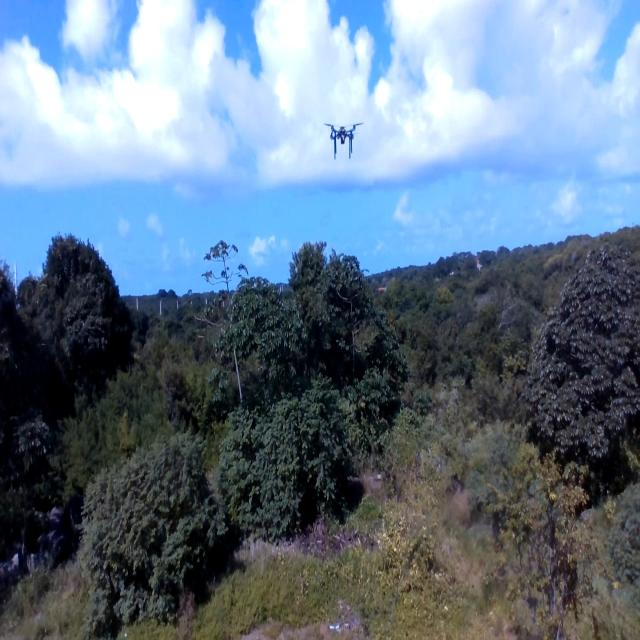-uav-: (320, 107, 368, 166)
